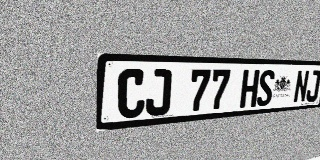7: (187, 69, 211, 113), (208, 69, 231, 111)
C: (117, 69, 146, 119)
H: (239, 70, 260, 108)
J: (145, 69, 172, 117), (305, 70, 320, 102)
N: (293, 70, 310, 103)
S: (256, 70, 275, 107)
